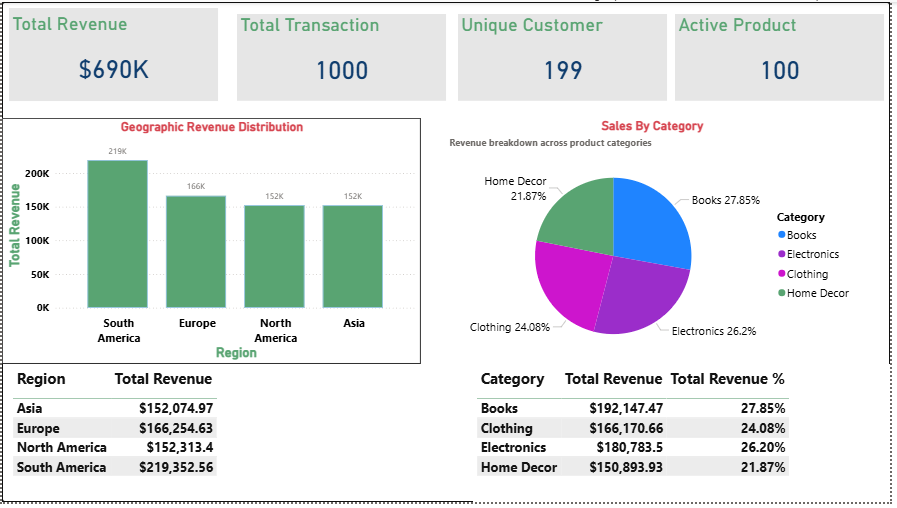

This screenshot's page, from the dashboard's own definition file:
{"tool":"powerbi","page":{"name":"Breakdown","canvas":[1280,720],"ordinal":2},"visuals":[{"type":"columnChart","title":"Geographic Revenue Distribution","fields":{"Category":["Customer.Region"],"Y":["Sum(Transactions.TotalValue)"]},"box":[0,167,603.4,354.2],"z":0},{"type":"tableEx","fields":{"Values":["Customer.Region","Sum(Transactions.TotalValue)"]},"box":[10.1,521.3,403.2,197.3],"z":1000},{"type":"pieChart","title":"Sales By Category","fields":{"Category":["Product.Category"],"Y":["Sum(Transactions.TotalValue)"]},"box":[639.4,167,594.7,354.2],"z":2000},{"type":"tableEx","fields":{"Values":["Product.Category","Sum(Transactions.TotalValue)","Customer.Total Revenue %"]},"box":[678.2,521.3,601.9,198.7],"z":3000},{"type":"card","title":"Total Revenue","fields":{"Values":["Sum(Transactions.TotalValue)"]},"box":[10.1,0,301,133.9],"z":4000},{"type":"card","title":"Total Transaction","fields":{"Values":["CountNonNull(Transactions.TransactionID)"]},"box":[338.4,8.6,301,125.3],"z":5000},{"type":"card","title":"Unique Customer","fields":{"Values":["Count(Transactions.CustomerID)"]},"box":[656.6,8.6,301,125.3],"z":6000},{"type":"card","title":"Active Product","fields":{"Values":["Count(Product.ProductID)"]},"box":[969.1,8.6,301,125.3],"z":7000}]}

Visuals, with their boxes in screenshot pixels (x1, y1, x2, y2), scaled from the page's 1280x720 canvas onto the 897x508 screenshot:
"Geographic Revenue Distribution" columnChart: l=0, t=118, r=423, b=368
tableEx - Customer.Region x Sum(Transactions.TotalValue): l=7, t=368, r=290, b=507
"Sales By Category" pieChart: l=448, t=118, r=865, b=368
tableEx - Product.Category x Sum(Transactions.TotalValue): l=475, t=368, r=896, b=507
"Total Revenue" card: l=7, t=0, r=218, b=94
"Total Transaction" card: l=237, t=6, r=448, b=94
"Unique Customer" card: l=460, t=6, r=671, b=94
"Active Product" card: l=679, t=6, r=890, b=94
